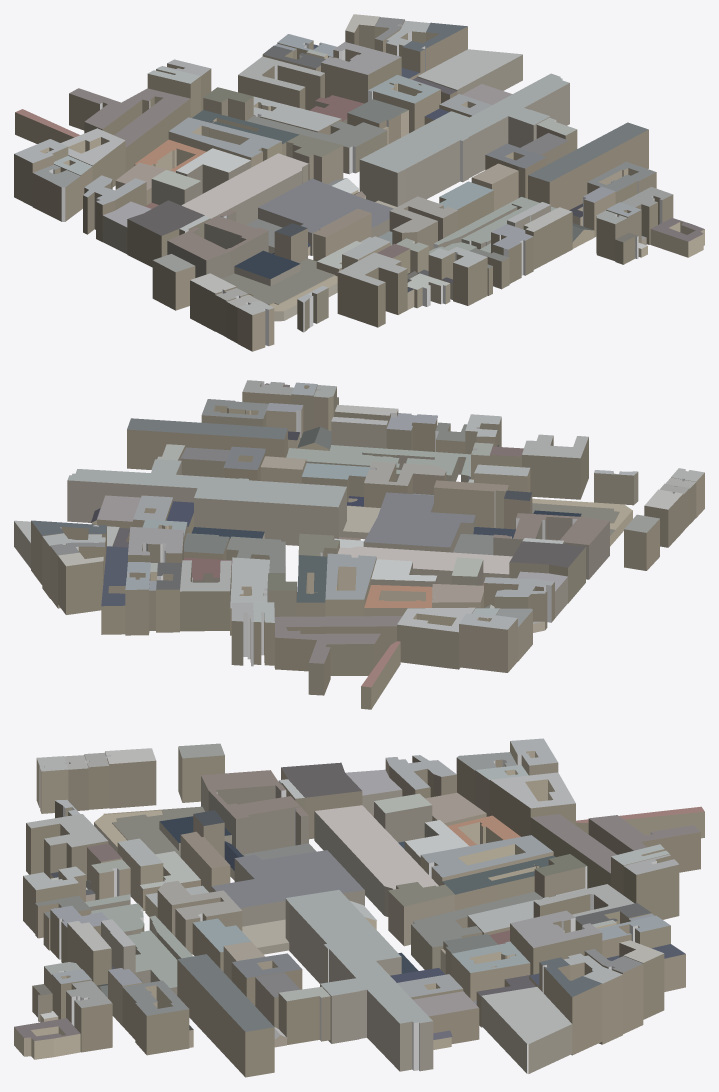
The picture shows the model from 3 angles, top to bottom: view 1: azimuth 30°, elevation 25°; view 2: azimuth 150°, elevation 25°; view 3: azimuth 270°, elevation 25°; orthographic projection. The views are drawn at different scales.
Visible parts, largest first — view 1: tuile; view 2: tuile; view 3: tuile.
Boxes of the visible parts, bbox=[...] form: tuile: bbox=[14, 14, 704, 351]; tuile: bbox=[14, 380, 704, 709]; tuile: bbox=[14, 738, 704, 1077].
Bounding box in the file's own units: 280 × 28.78 × 284.
